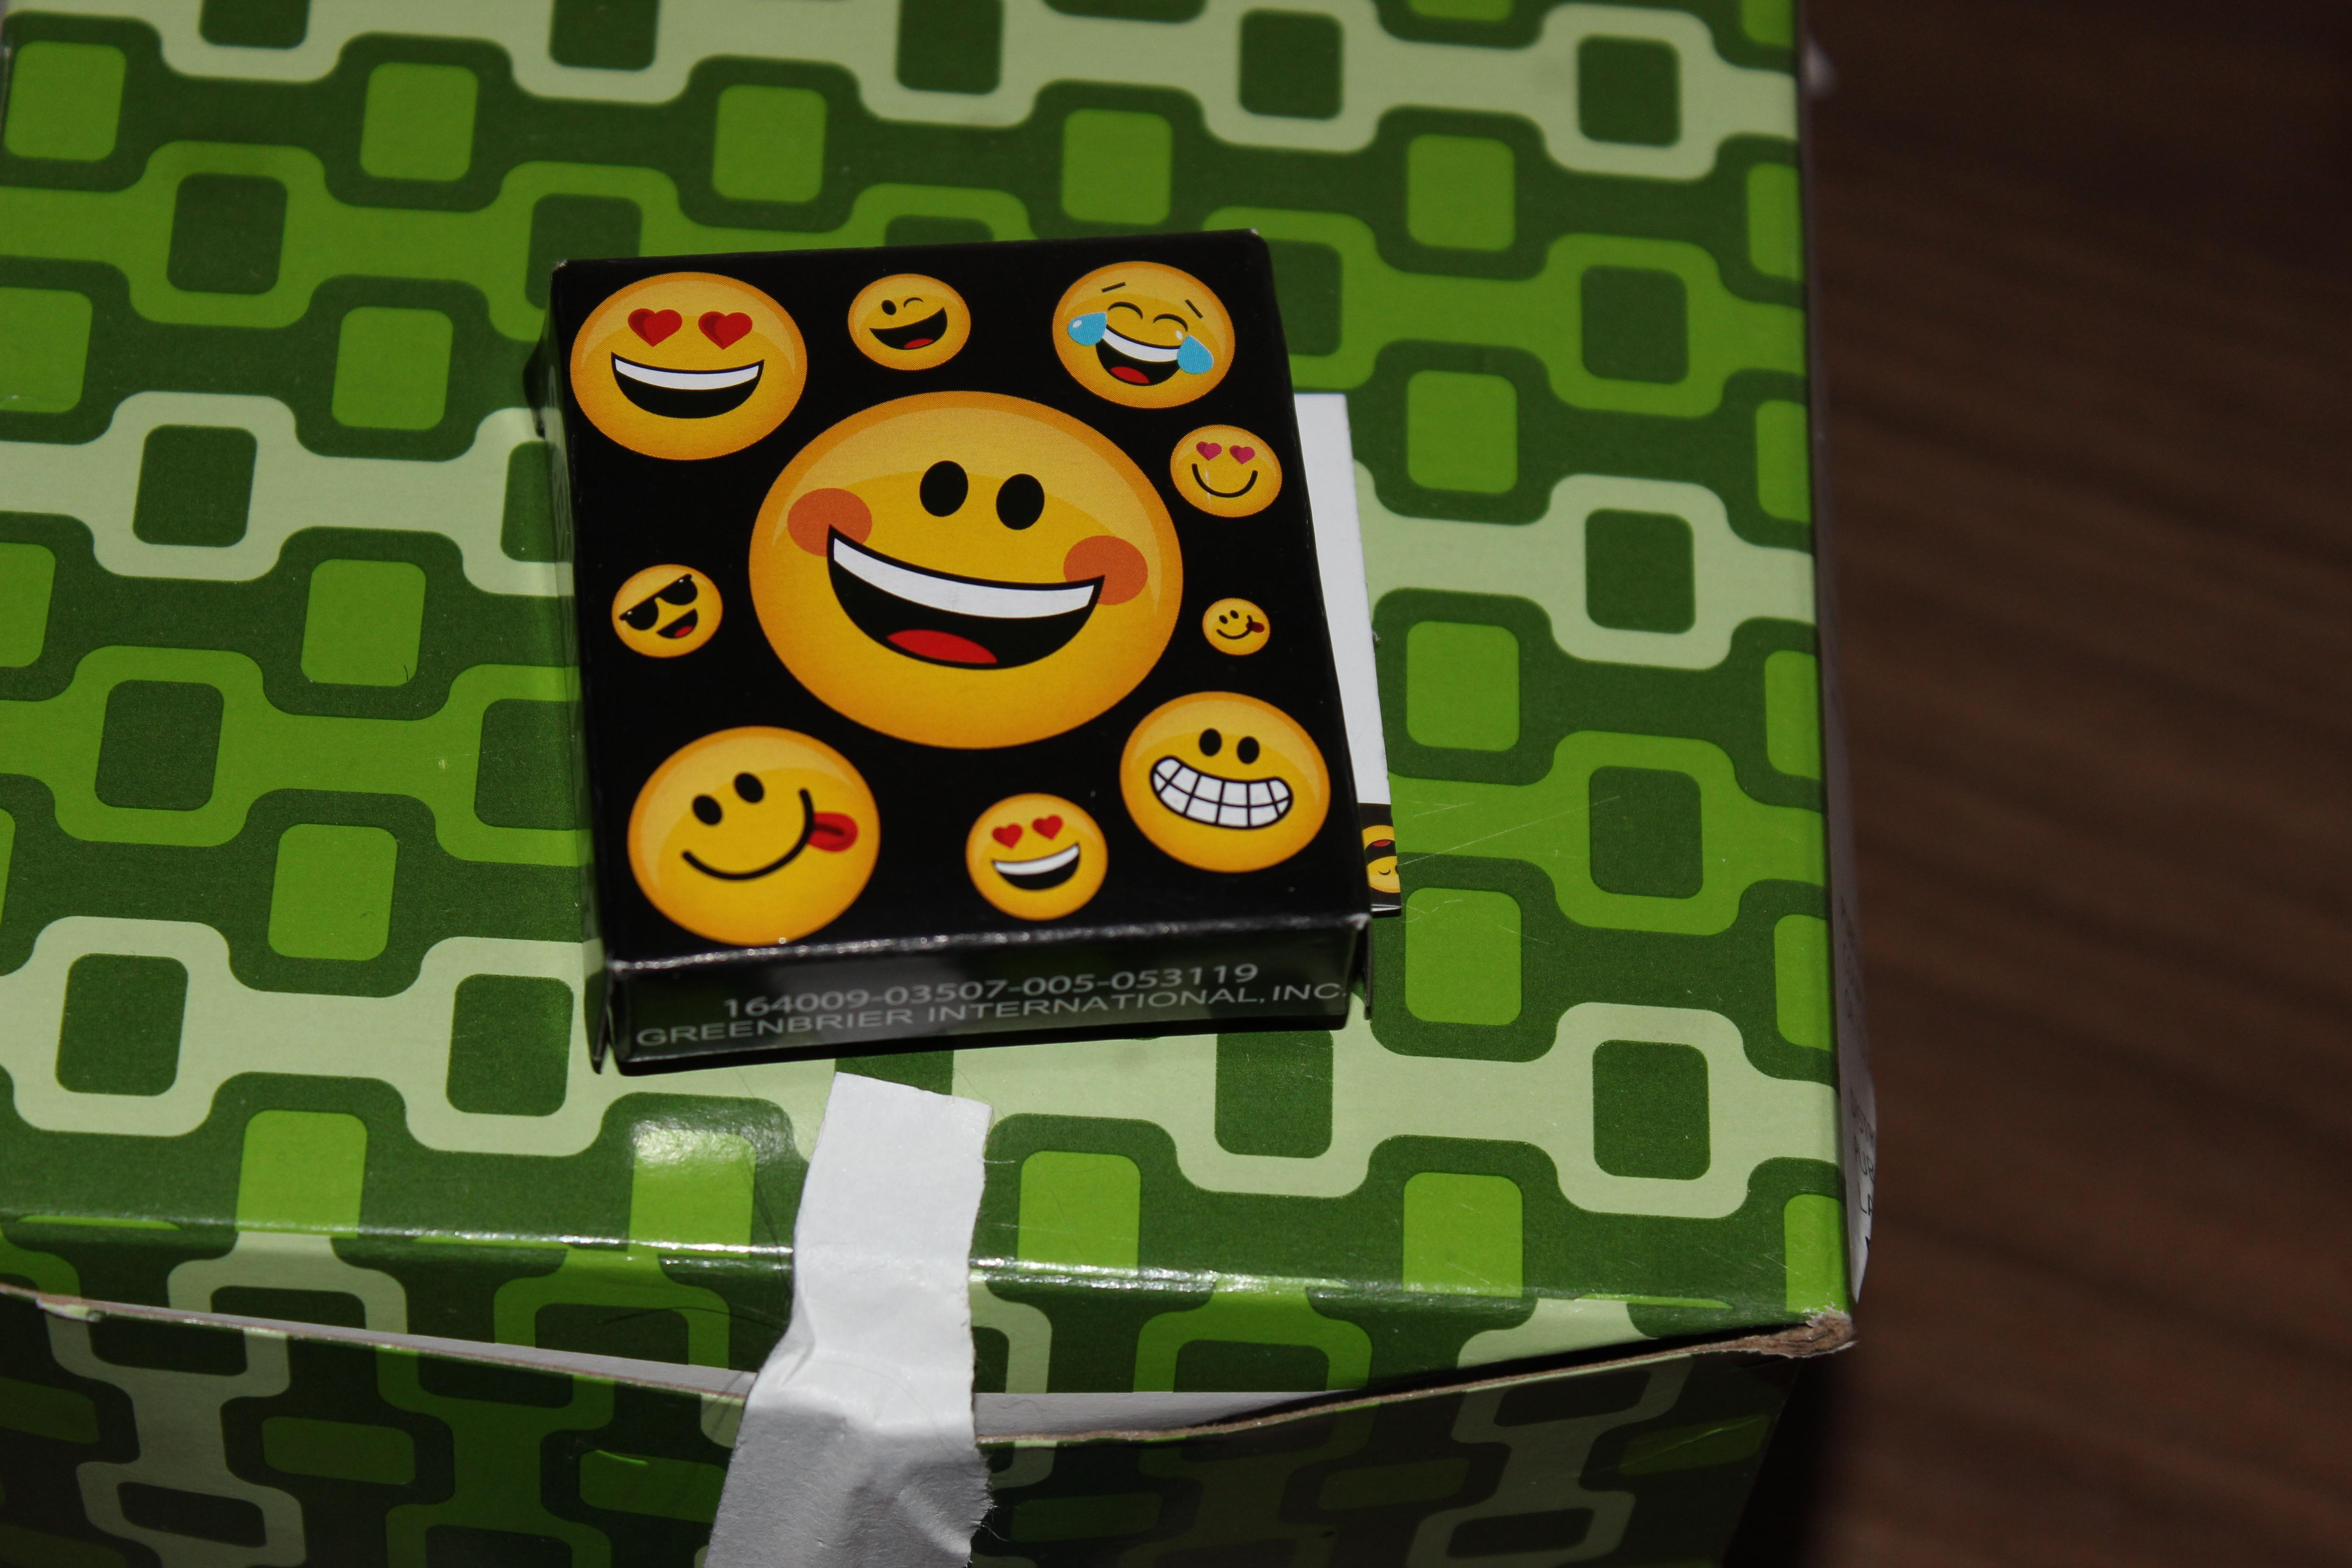stickerBox: (494, 199, 1424, 1099)
